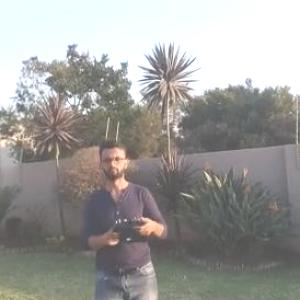follow: (78, 128, 175, 299)
